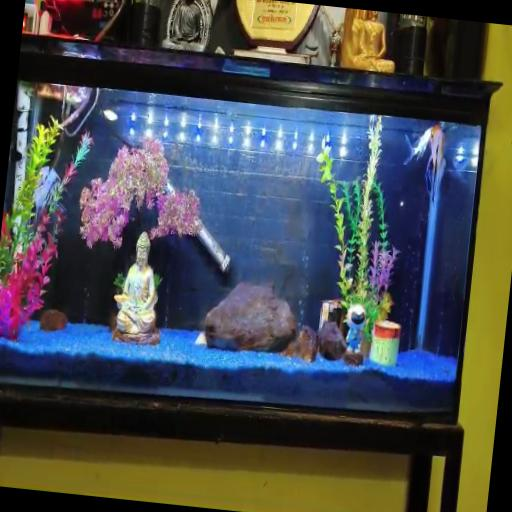Fish: (425, 125, 444, 204), (33, 167, 60, 221), (403, 128, 430, 164)
